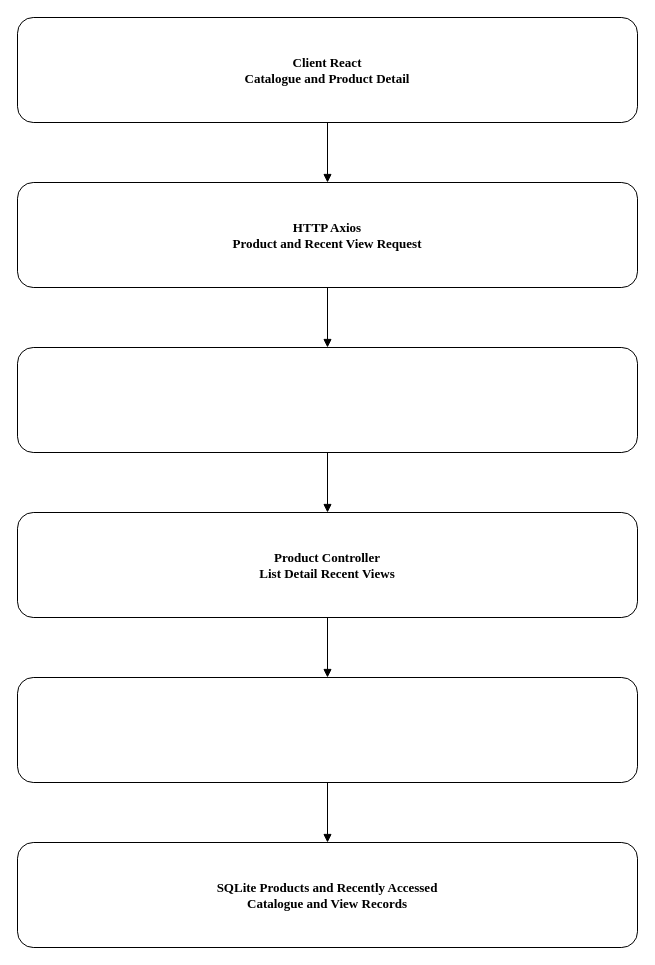
The diagram is 655 pixels wide and 965 high, and some of its shapes have lost their labels. Here are the shapes that lost their labels. From the top down, the centre of each, then its label:
At point 327,399: "Express Middleware JWT for Signed In Actions".
At point 327,729: "Product Service Availability and View Logic".
